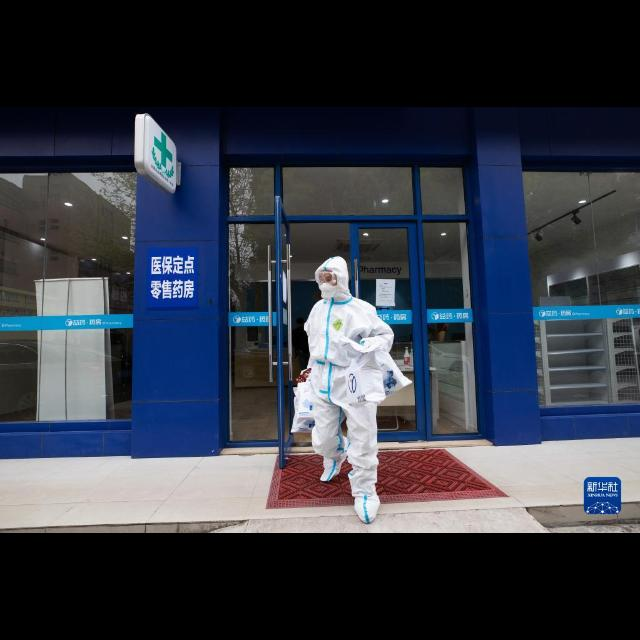masks: (314, 280, 344, 304)
